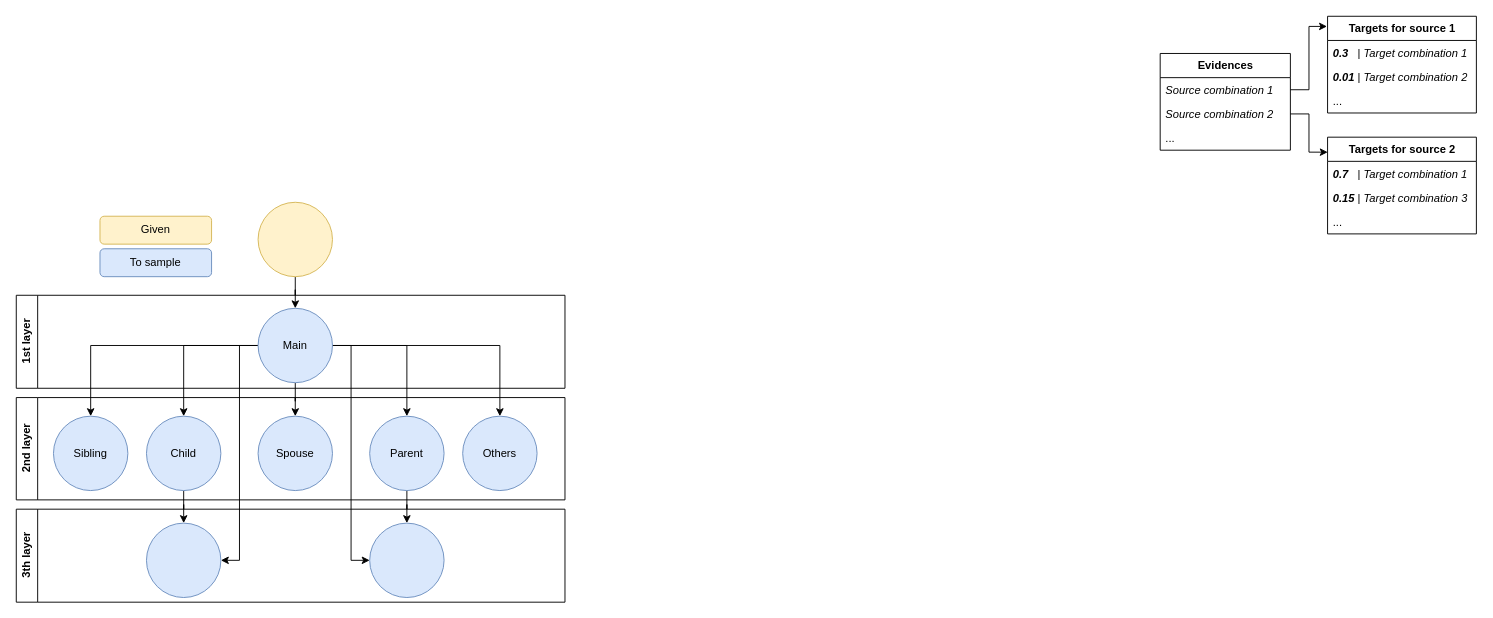
Image size: 1493x618. Some labels were removed from this diagram. The shapes that lost their labels are listed below. From the top down, each one's centre as x and y in pixels, then its label:
At pixel 294 239: "Household".
At pixel 183 560: "Grandchild".
At pixel 406 560: "Grandparent".
